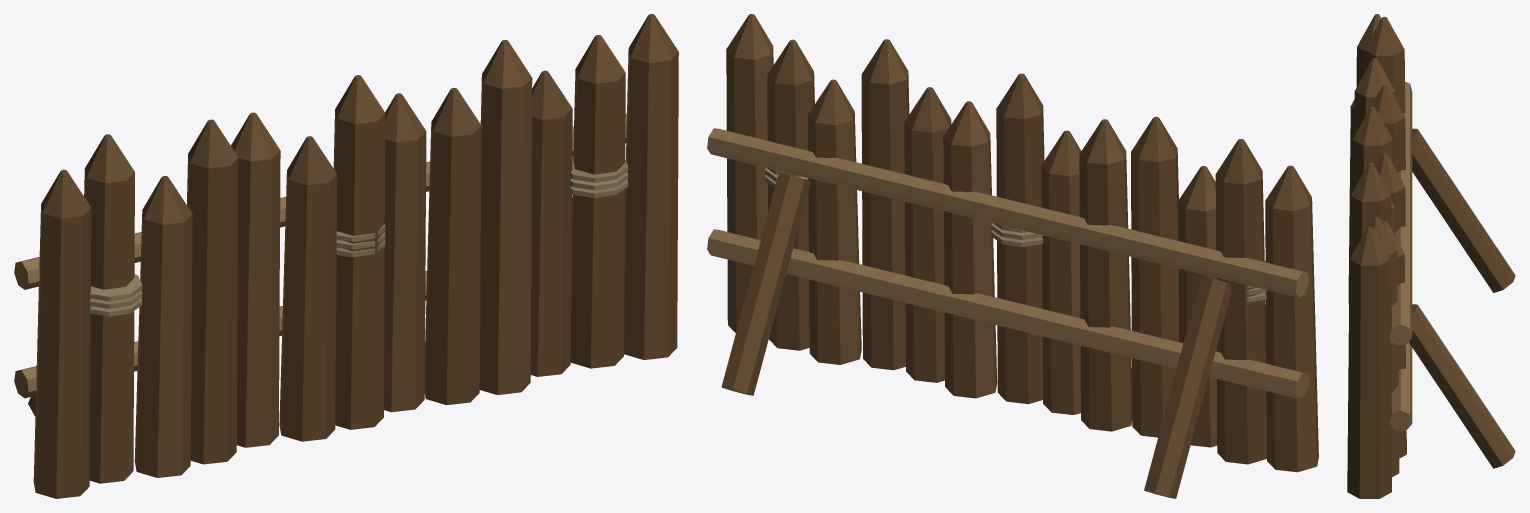
File: palisade-wall.glb
3 views of the same model, side by side, from view 1: azimuth 30°, elevation 25°; view 2: azimuth 150°, elevation 25°; view 3: azimuth 270°, elevation 25° (orthographic). The views are drawn at different scales.
Visible parts, largest first — view 1: palisade-wall; view 2: palisade-wall; view 3: palisade-wall.
Boxes of the visible parts, bbox=[...] form: palisade-wall: bbox=[14, 14, 678, 498]; palisade-wall: bbox=[707, 14, 1318, 498]; palisade-wall: bbox=[1347, 14, 1515, 498].
Bounding box in the file's own units: 3.91 × 2.02 × 1.13.
